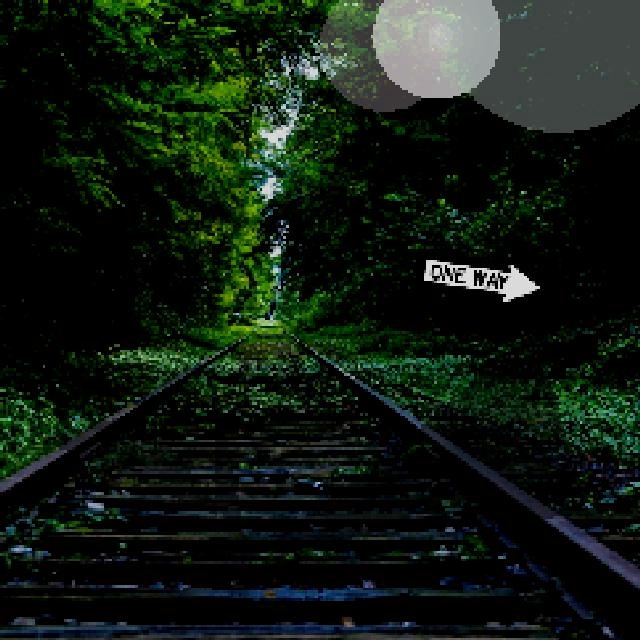ONE_WAY_ right: (412, 246, 551, 309)
